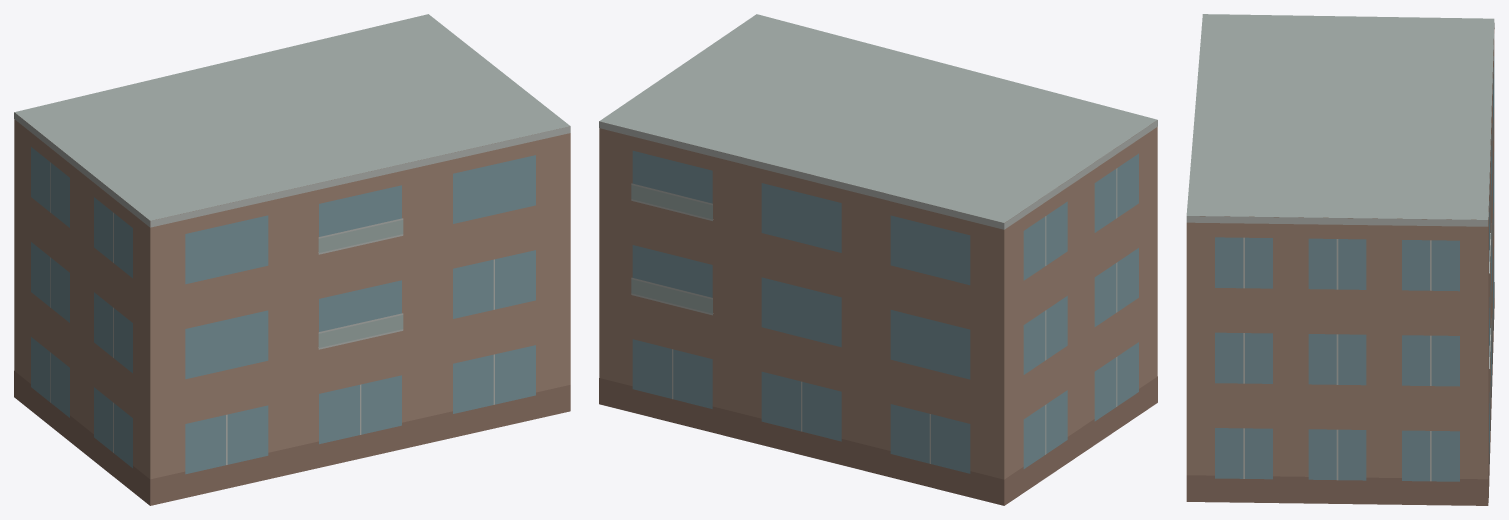
The model's file is survey-upis-32634434.glb.
3 renders of one model, left to right at view 1: azimuth 30°, elevation 25°; view 2: azimuth 150°, elevation 25°; view 3: azimuth 270°, elevation 25°, orthographic.
Visible parts, largest first — view 1: survey-upis-32634434.tmp; view 2: survey-upis-32634434.tmp; view 3: survey-upis-32634434.tmp.
Part boxes in pixels (x1,y1,x2,y2): survey-upis-32634434.tmp: [14, 14, 570, 505]; survey-upis-32634434.tmp: [599, 14, 1157, 505]; survey-upis-32634434.tmp: [1186, 14, 1494, 505].
Bounding box in the file's own units: 15.76 × 10.2 × 9.97.
